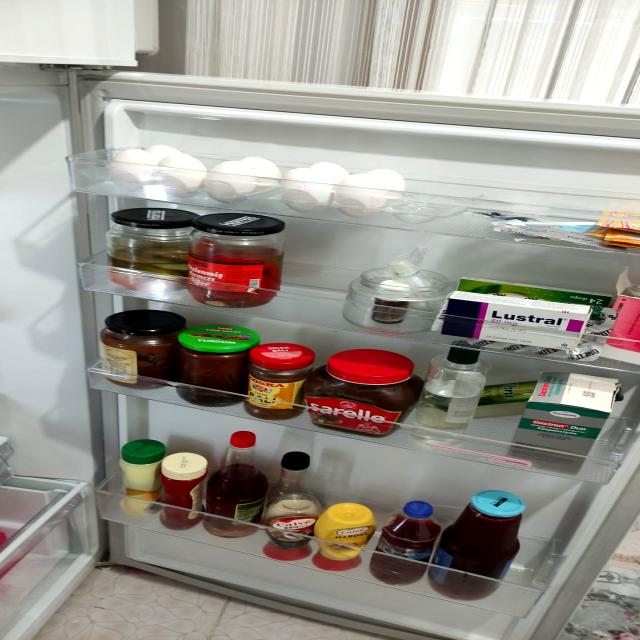egg: (333, 172, 392, 217), (203, 160, 261, 204)
ketchup: (158, 450, 208, 531)
mayonnaise: (121, 437, 162, 517)
